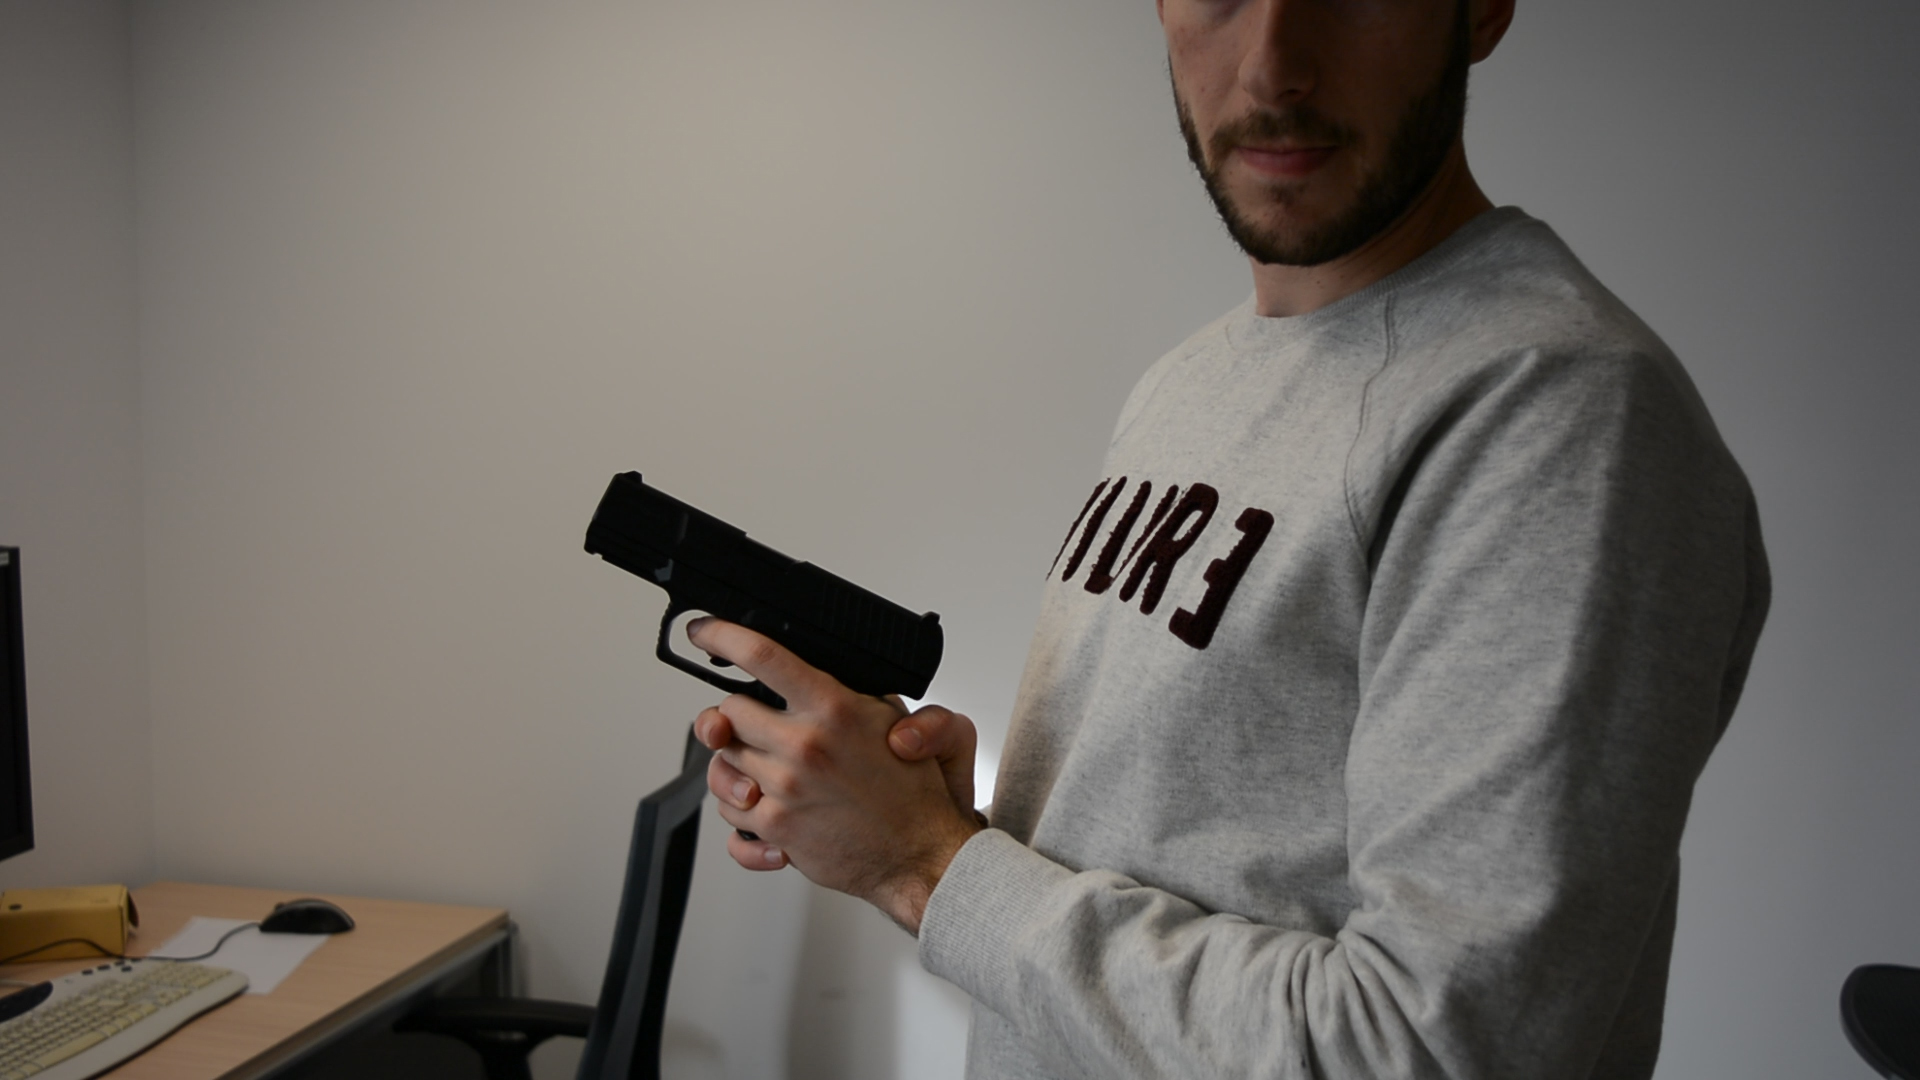pistol: (583, 469, 948, 844)
